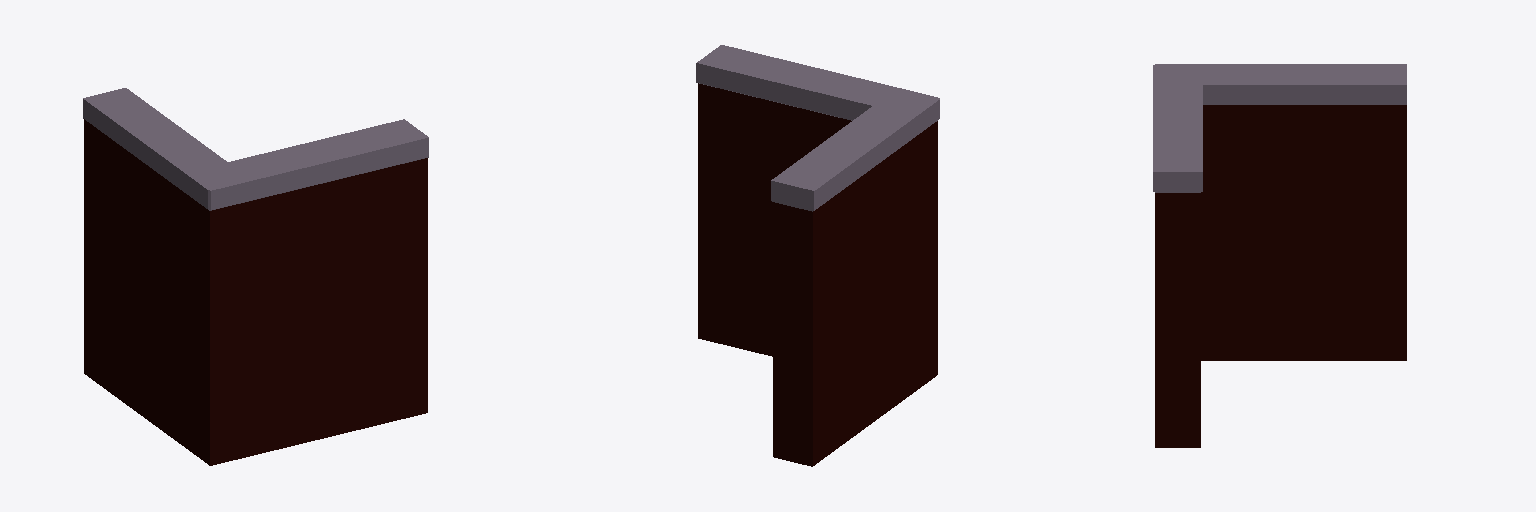
The model's file is brickwallCorner.obj.
3 views of the same model, side by side, from view 1: azimuth 30°, elevation 25°; view 2: azimuth 150°, elevation 25°; view 3: azimuth 270°, elevation 25° (orthographic).
Parts seen in each view (by area): view 1: Brick_Wall_Cube; view 2: Brick_Wall_Cube; view 3: Brick_Wall_Cube.
Boxes of the visible parts, box(x1,y1,x2,y2) form: Brick_Wall_Cube: box(83, 88, 428, 465); Brick_Wall_Cube: box(696, 45, 939, 466); Brick_Wall_Cube: box(1153, 64, 1406, 447).
Size of the model in its own units: 1.11 by 1.33 by 1.11.